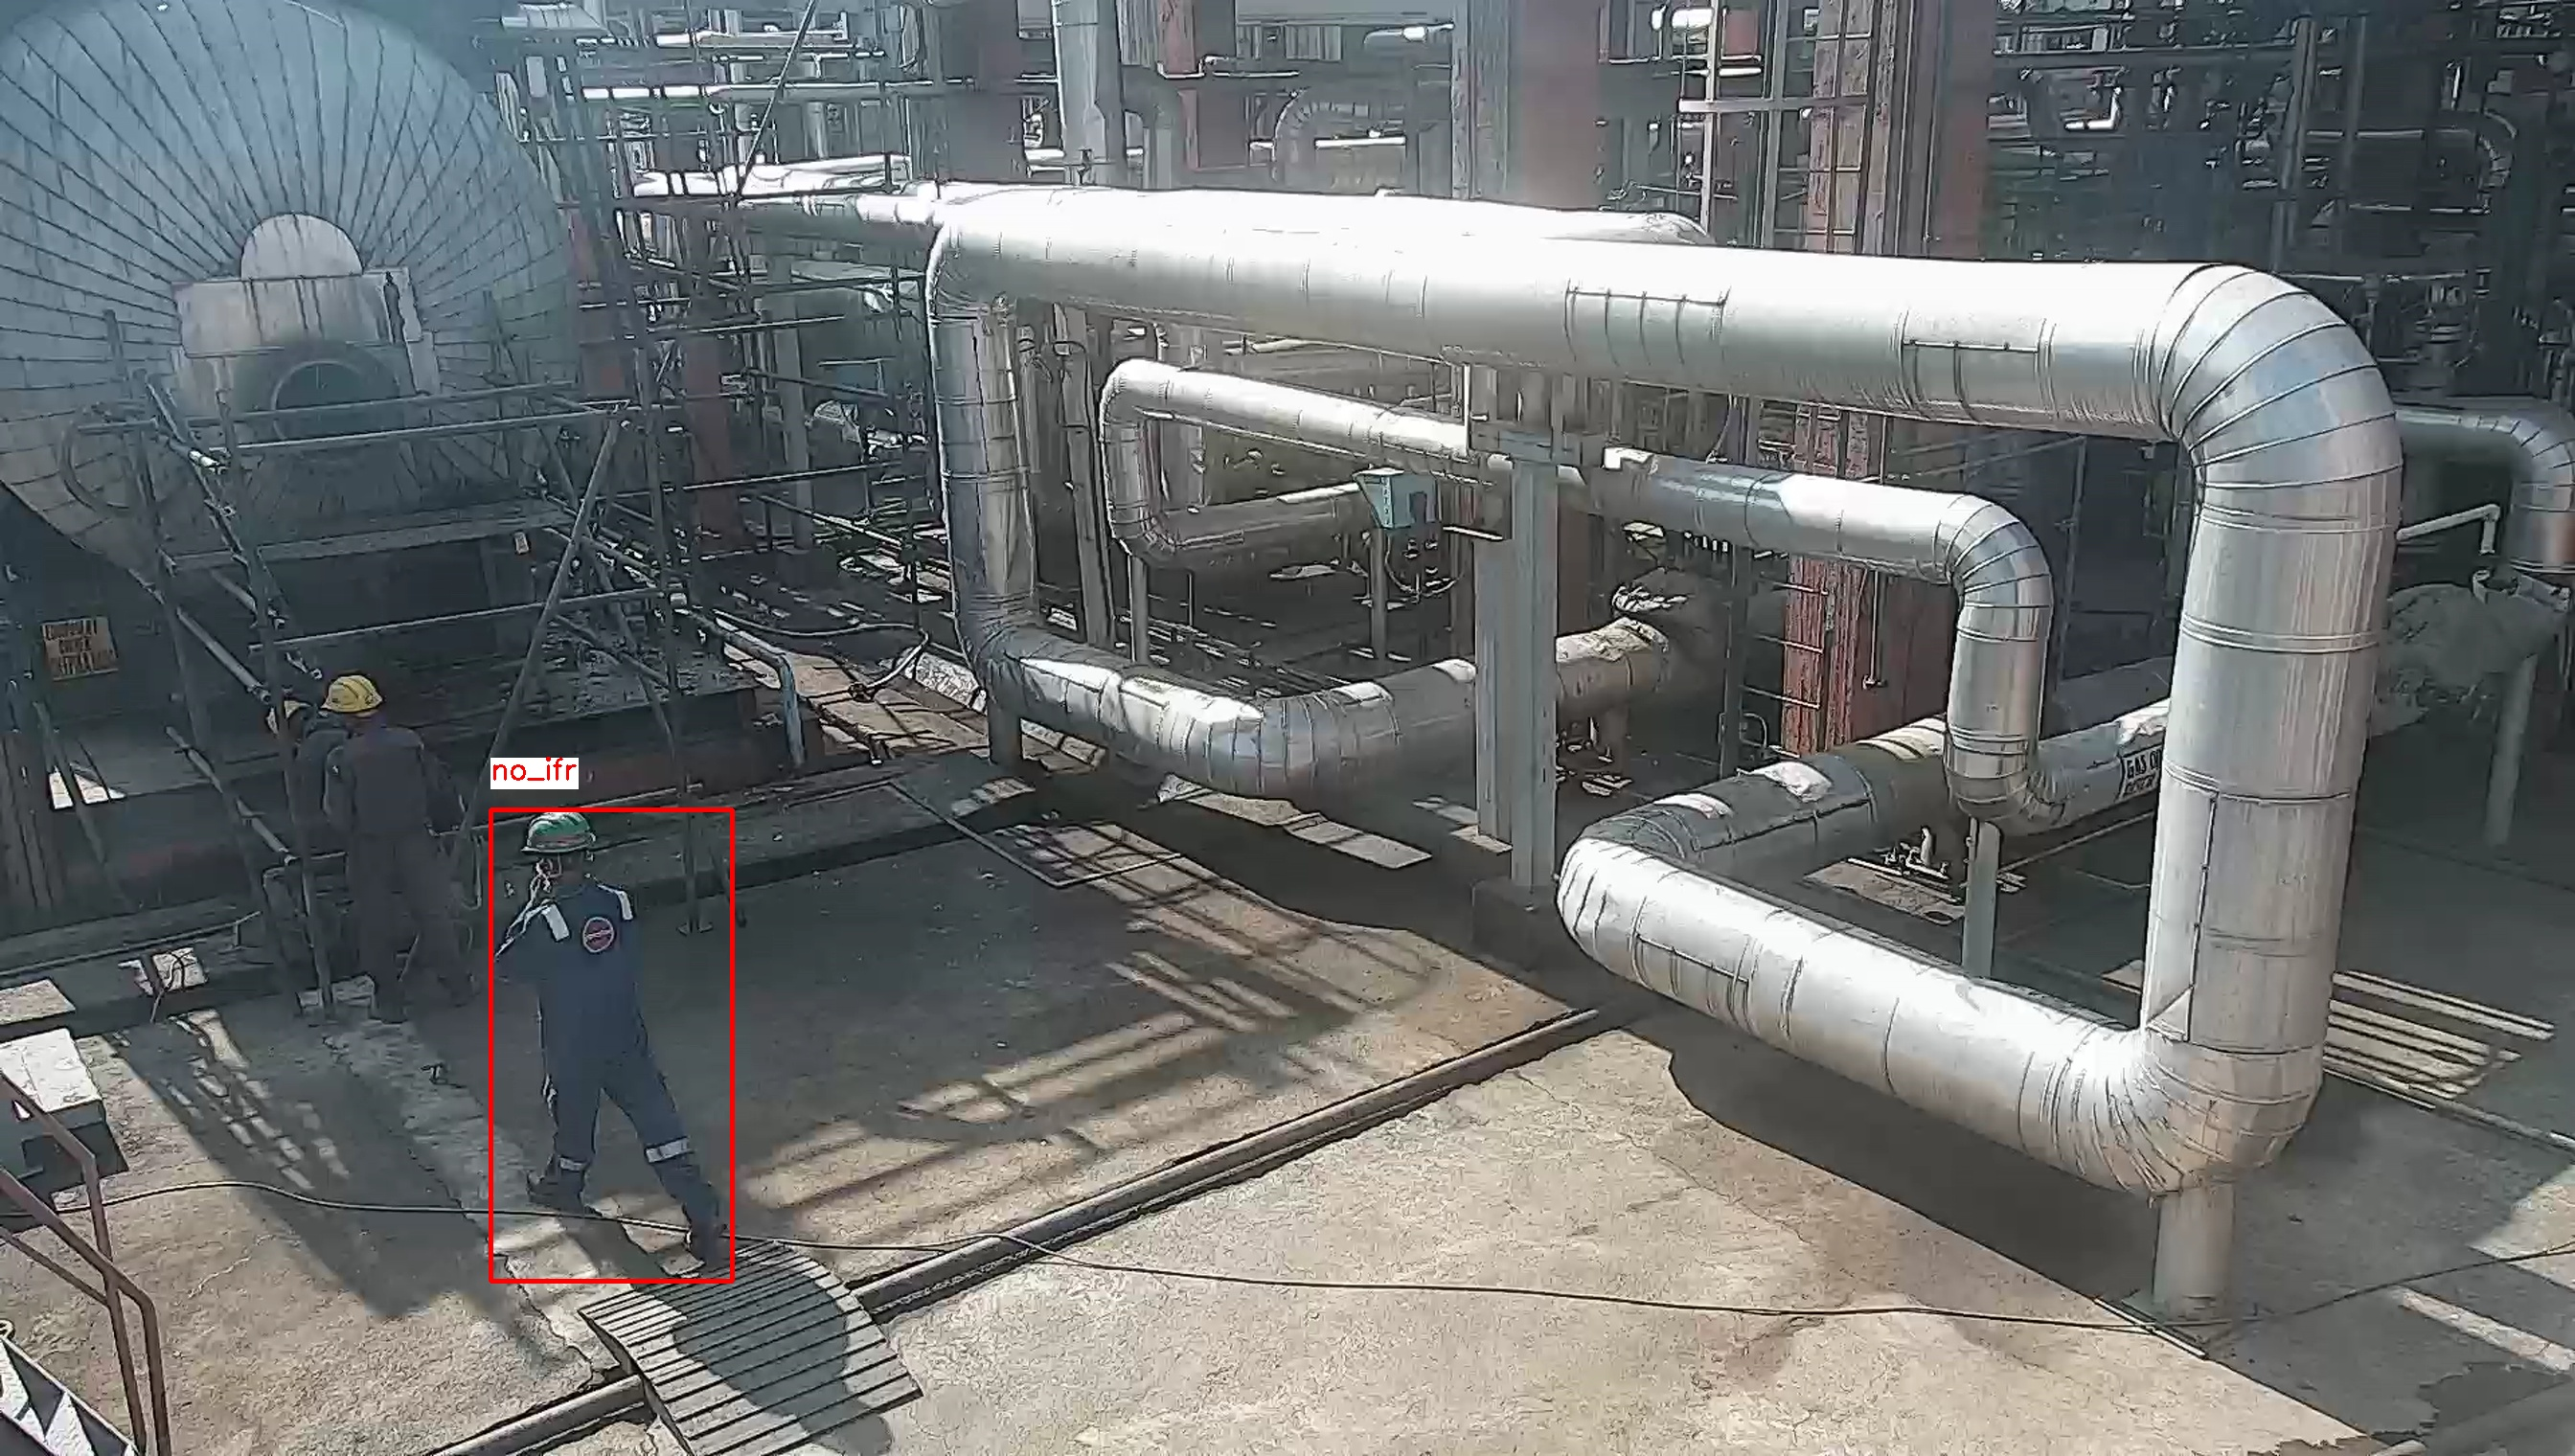Helmets: (318, 672, 389, 713)
IFR_Suit: (500, 876, 714, 1221)
